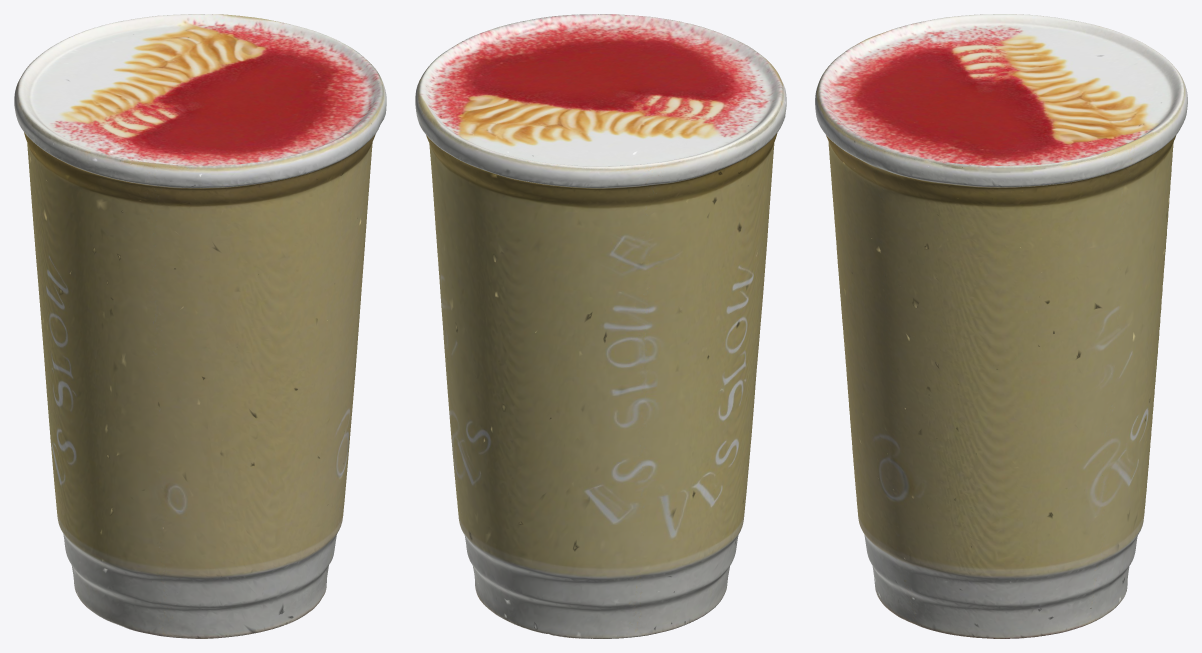
Rendered from malina-web.glb.
3 views of the same model, side by side, from view 1: azimuth 30°, elevation 25°; view 2: azimuth 150°, elevation 25°; view 3: azimuth 270°, elevation 25° (orthographic).
Size of the model in its own units: 1.36 by 2 by 1.36.
1 material, 1 textured.
